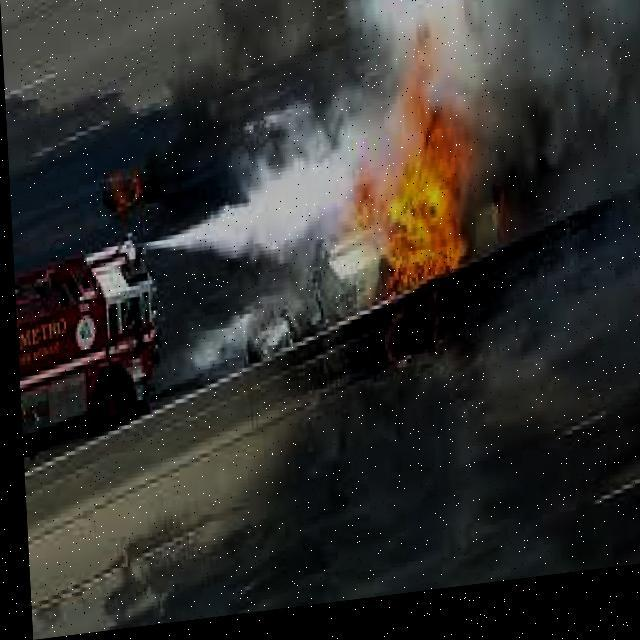Fire: (337, 103, 472, 299)
